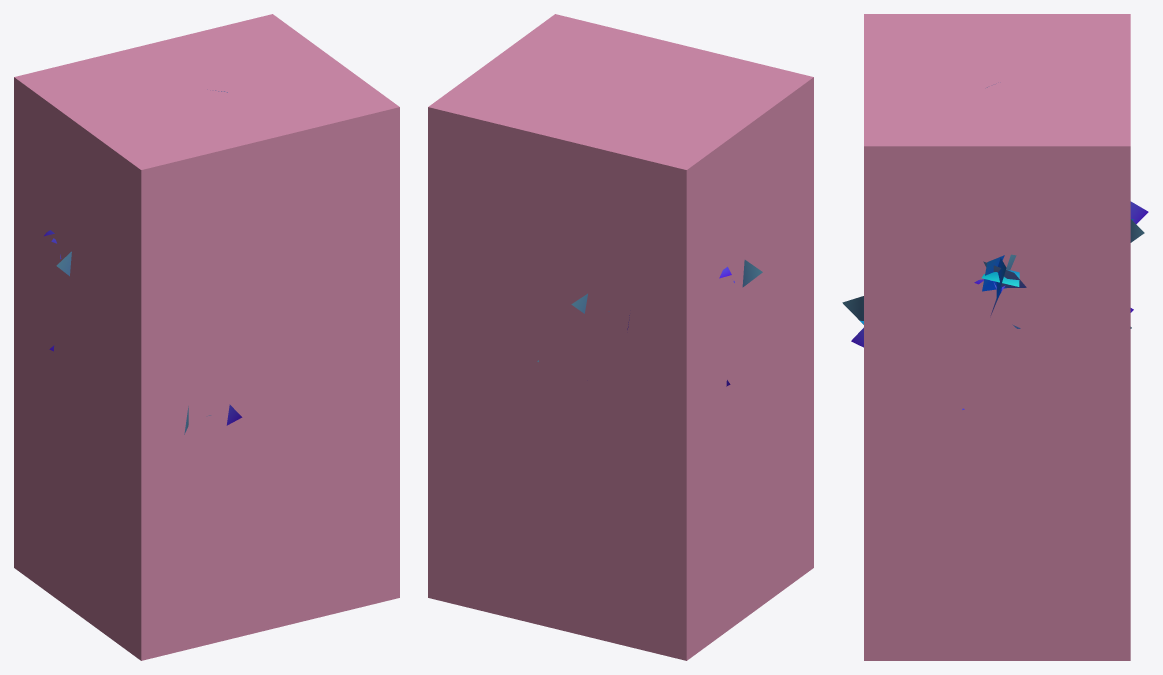
File: tree_aspen_large_b.dae
The picture shows the model from 3 angles, left to right: view 1: azimuth 30°, elevation 25°; view 2: azimuth 150°, elevation 25°; view 3: azimuth 270°, elevation 25°; orthographic projection. The views are drawn at different scales.
Visible parts, largest first — view 1: Untitled; view 2: Untitled; view 3: Untitled, tree_oak_bush_a220, tree_oak_bush_a400.
Boxes of the visible parts, x1,y1,x2,y2 form: Untitled: (14,14,399,660); Untitled: (428,14,813,660); Untitled: (864,14,1130,660); tree_oak_bush_a220: (842,201,1148,347); tree_oak_bush_a400: (860,87,1144,409).
Bounding box in the file's own units: 6.98 × 5.92 × 11.03.
